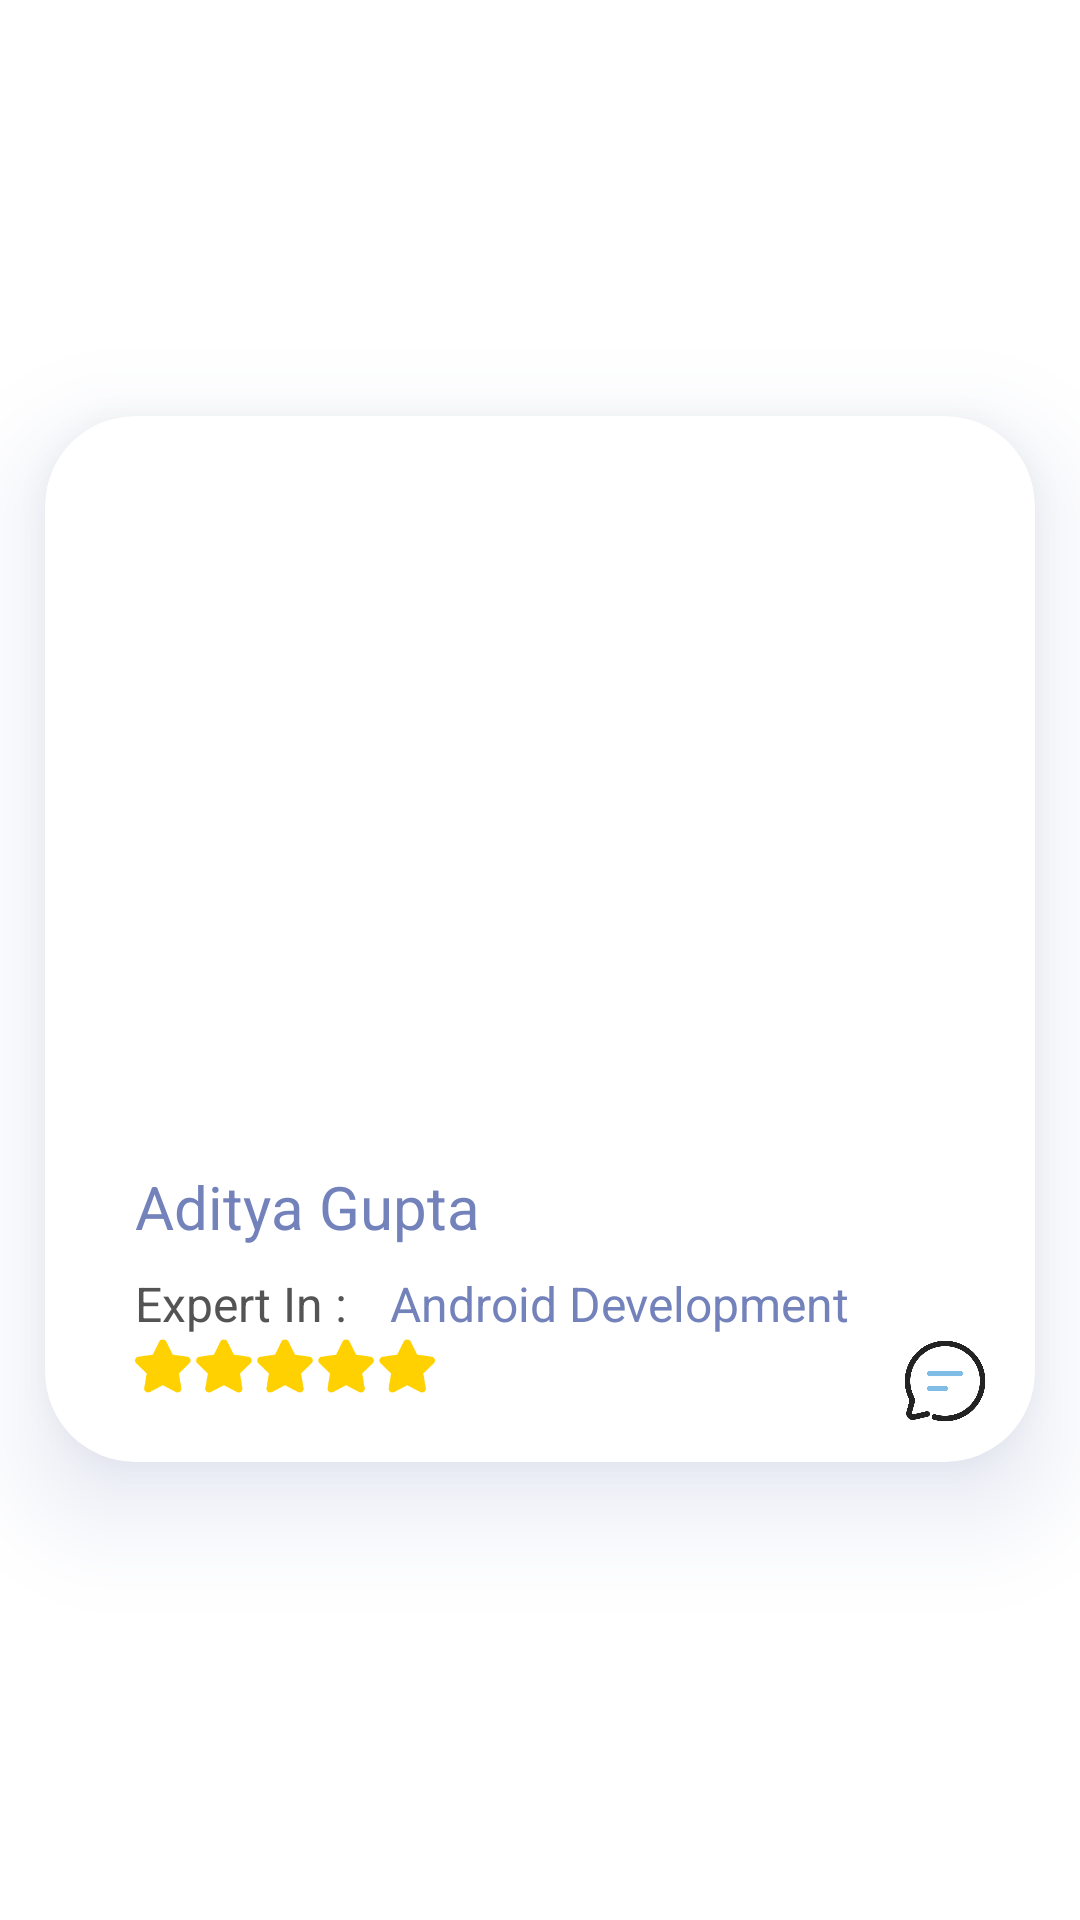

Locate icon controls on the screen. Image size 1080 x 1920, boxes as (x1, y1, x2, y2).
chat: (905, 1341, 985, 1421)
rating: (135, 1339, 435, 1393)
